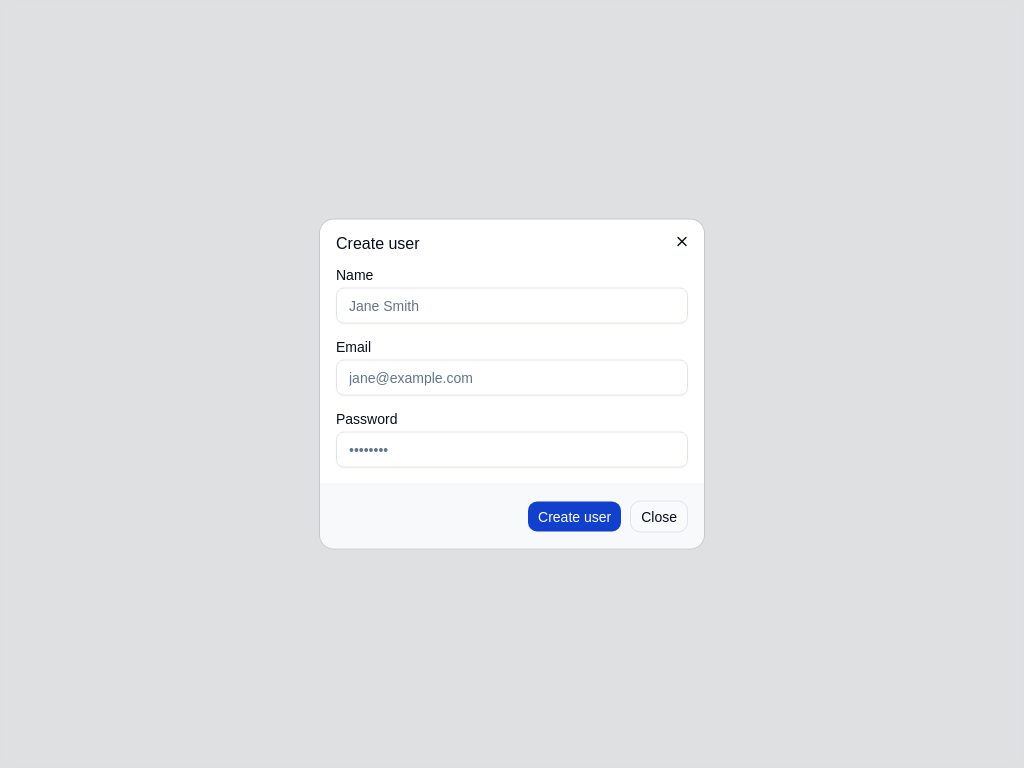
Test: UserDialog — create mode — validation › shows error for invalid email
In the field labelled "Email": (512, 378) [336,360,688,396], type "not-an-email"
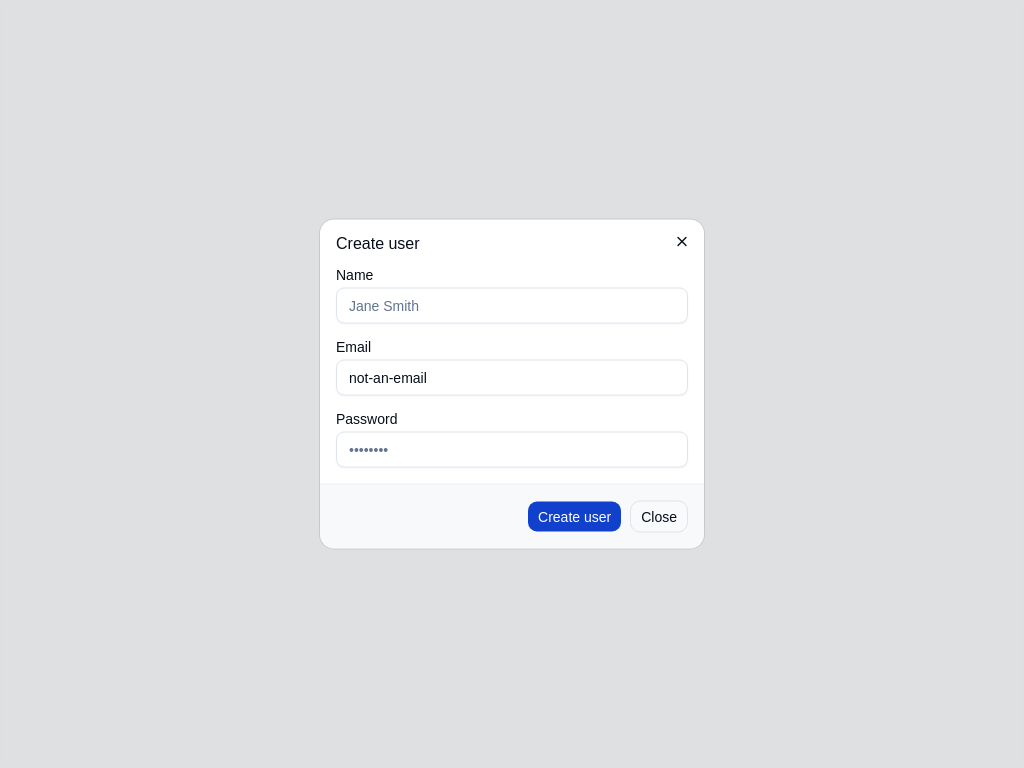
Submit the form with id "user-form", box [336,268,688,468]
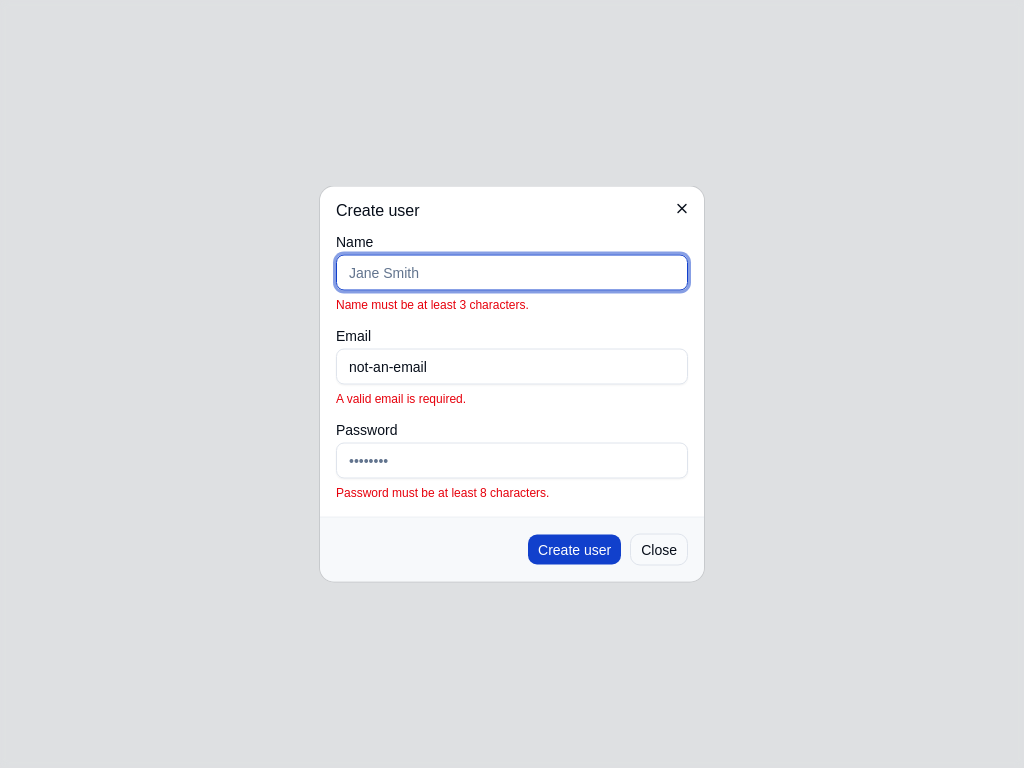
Now the text "A valid email is required." is shown, box [336,392,466,406]
